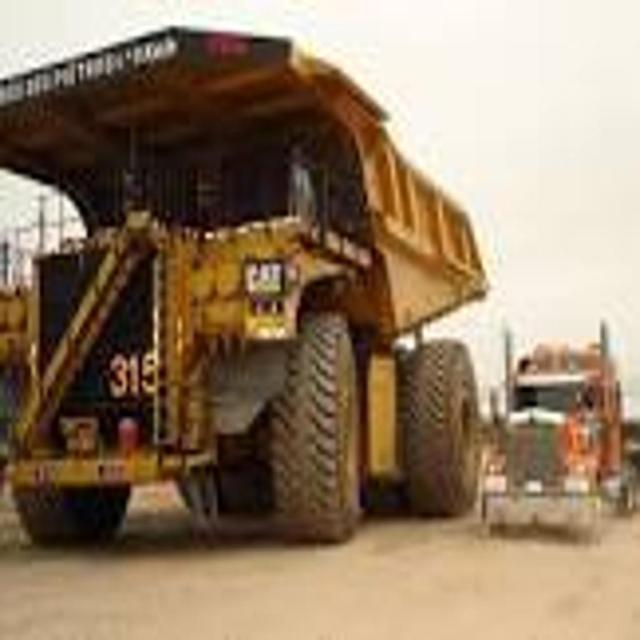dump_truck: (2, 25, 488, 559)
